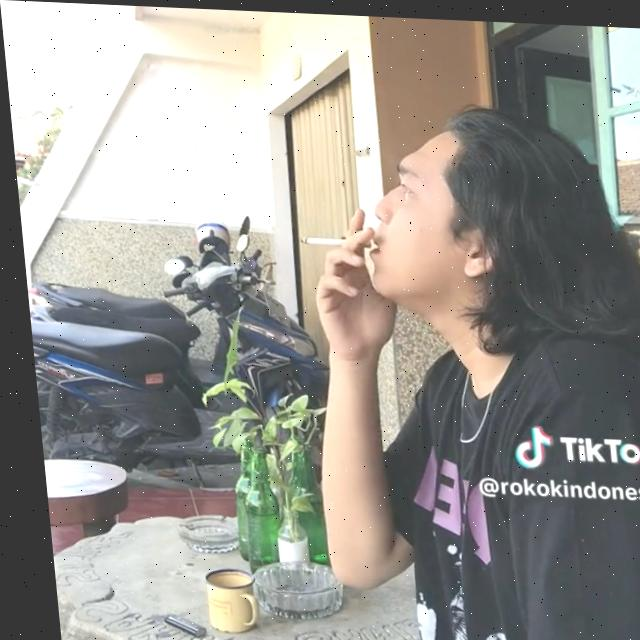cigarette: (296, 234, 343, 243)
